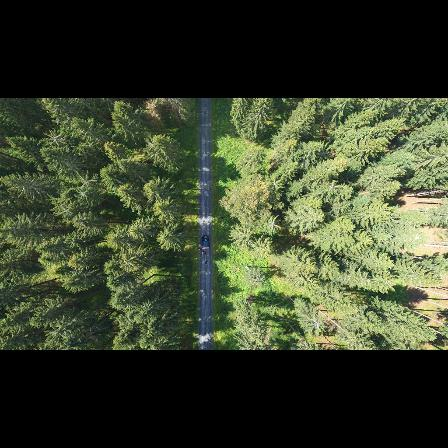Sick: (261, 211, 283, 236), (44, 126, 66, 150), (77, 170, 96, 192), (74, 186, 92, 203)
